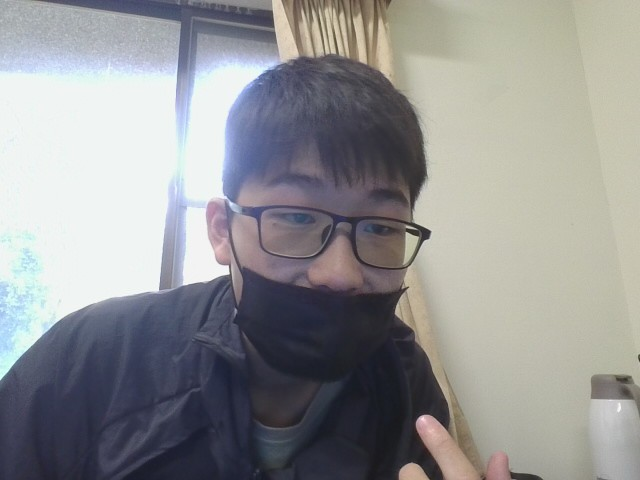No_Gloves: (365, 410, 591, 479), (382, 407, 518, 479)
No_Helmet: (209, 49, 431, 334)
person: (11, 41, 603, 479)
